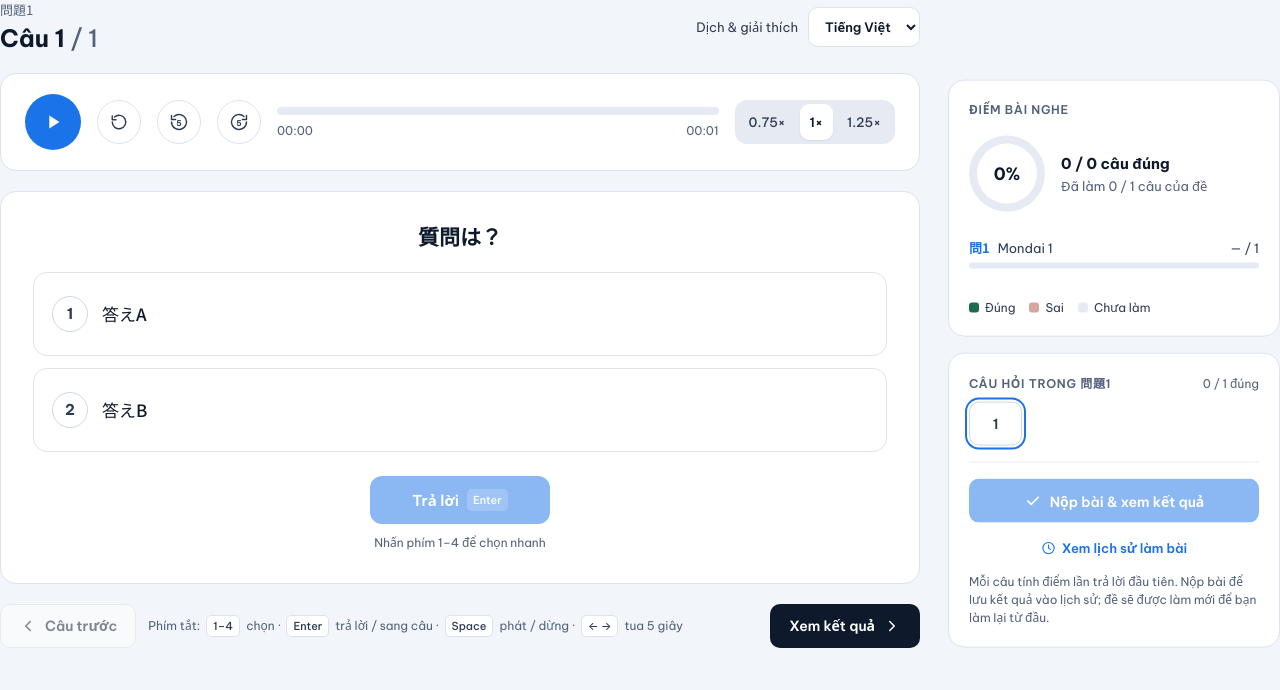
Test: ListeningWorkspace › scores the answer and reveals the explanation
Click the radio button labelled "1 答えA": (70, 314) [33,272,887,356]
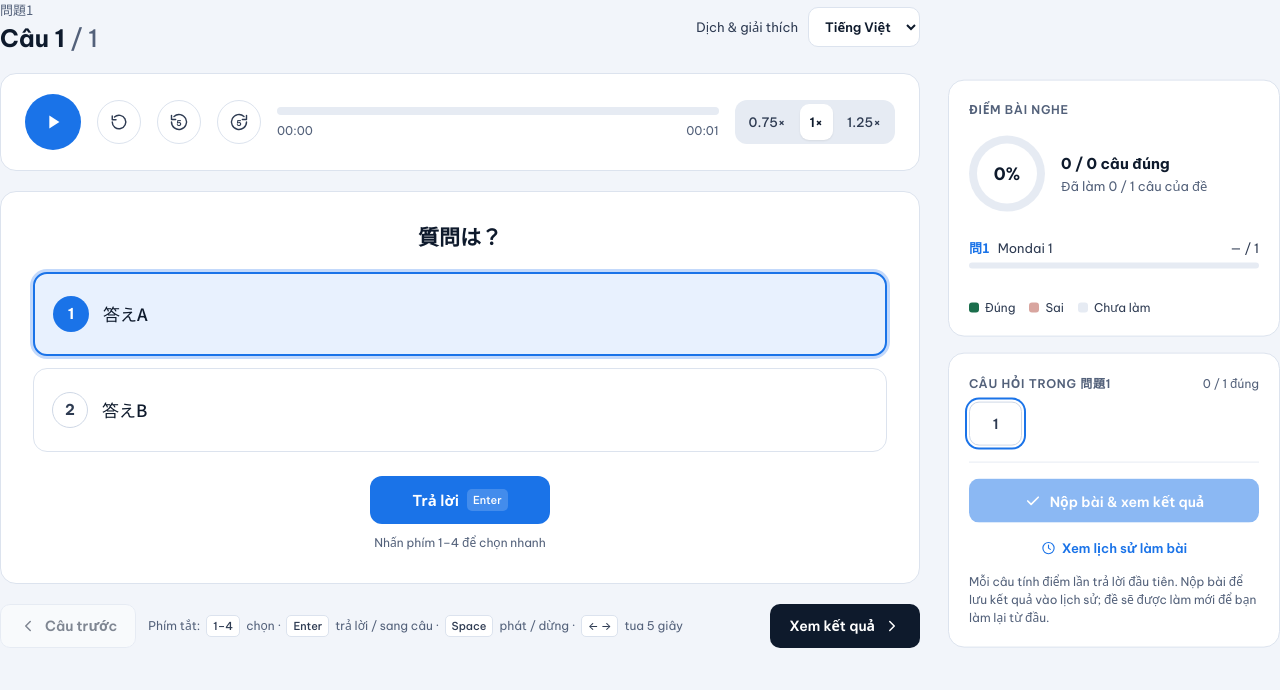
Click the button "Trả lời Enter": (460, 500) [370,476,550,524]
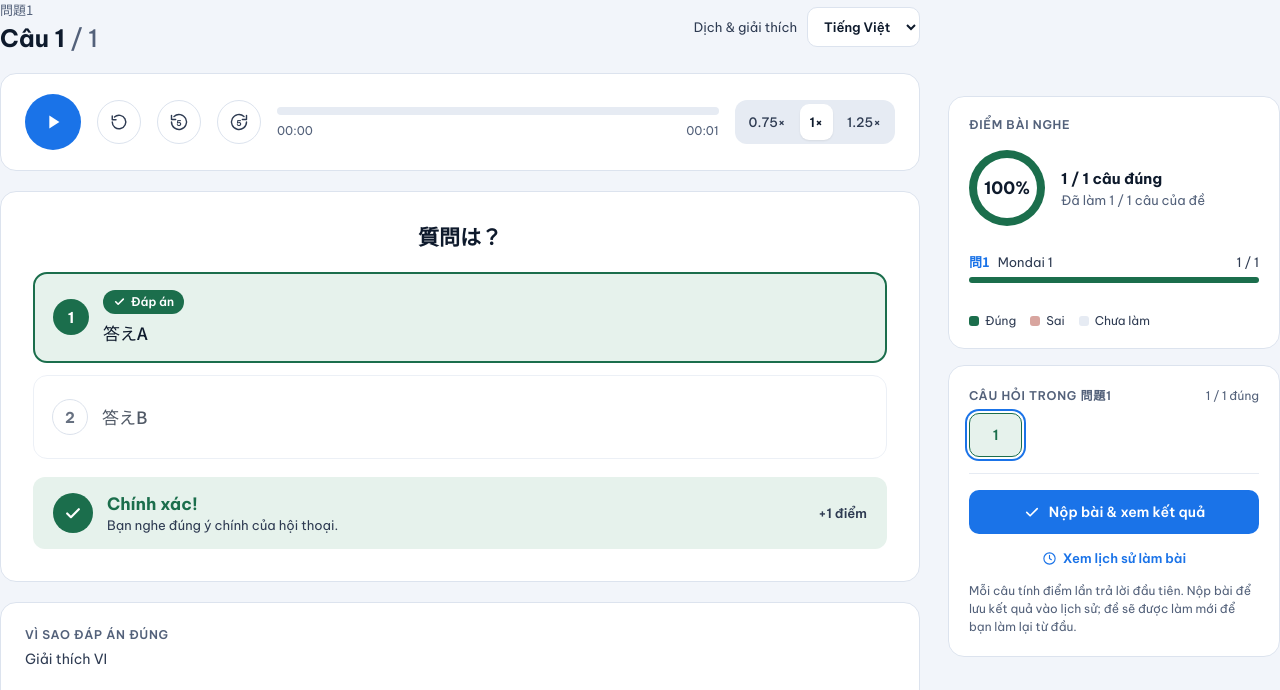
expect the text "Chính xác!" is shown: met, box [107,493,198,515]
expect the text "Giải thích VI" is shown: met, box [25,650,107,668]
expect the text "+1 điểm" is shown: met, box [818,505,867,521]
